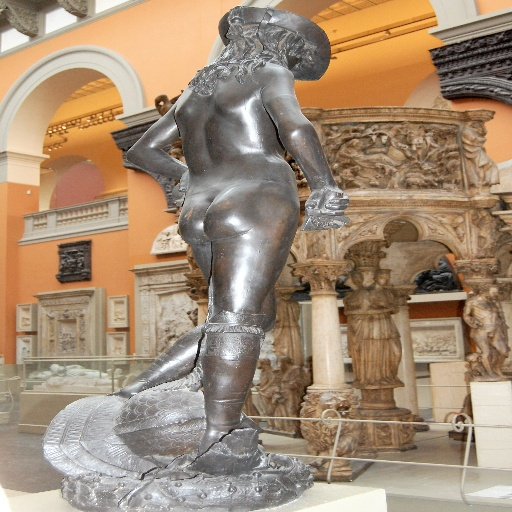hand: (305, 177, 350, 223), (169, 167, 191, 208)
